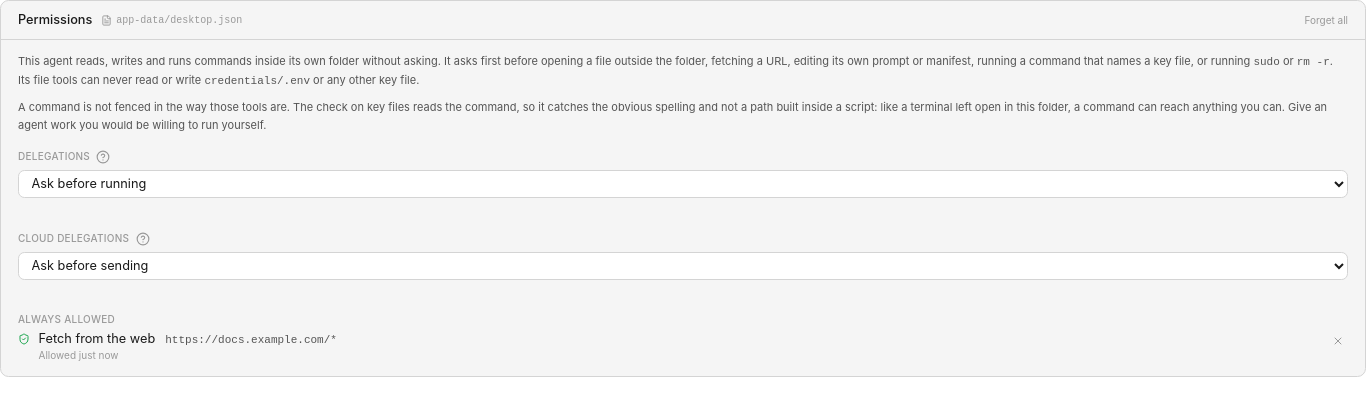
it: PermissionsCard › drops the row from the list the moment it is forgotten
Click the button named "Forget permission to fetch from the web" at x=1338, y=341, box [1328,331,1348,352]
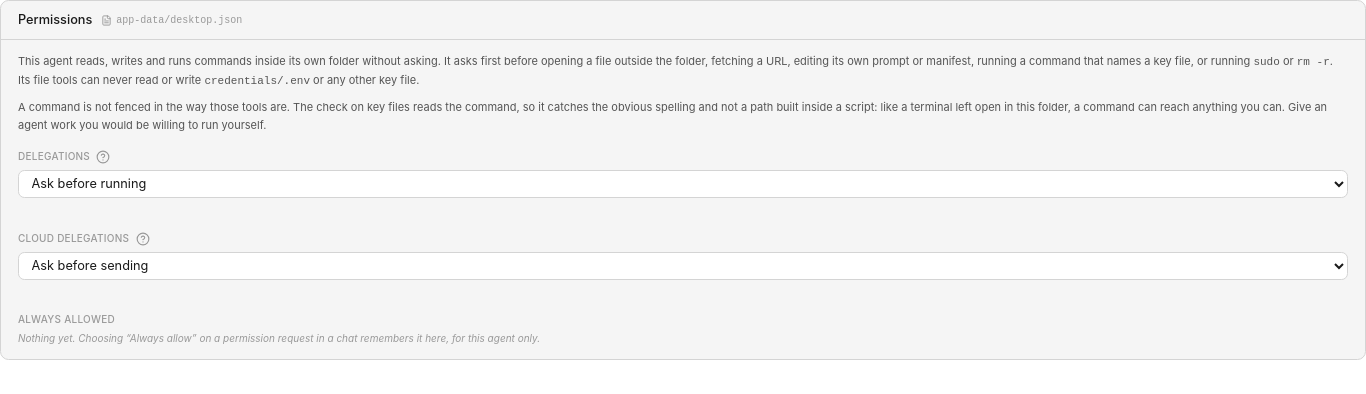
Expected: the text "https://docs.example.com/*" is gone
Expected: the text "Nothing yet" is shown, [18,332,540,344]
